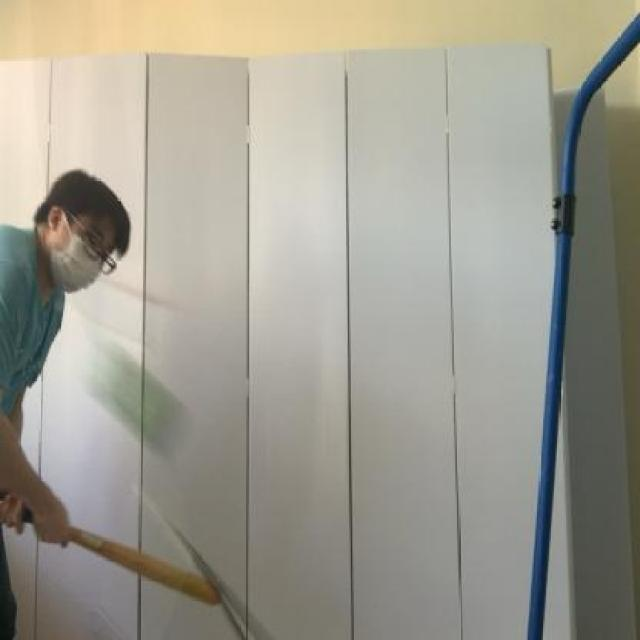baseball: (86, 330, 194, 458)
